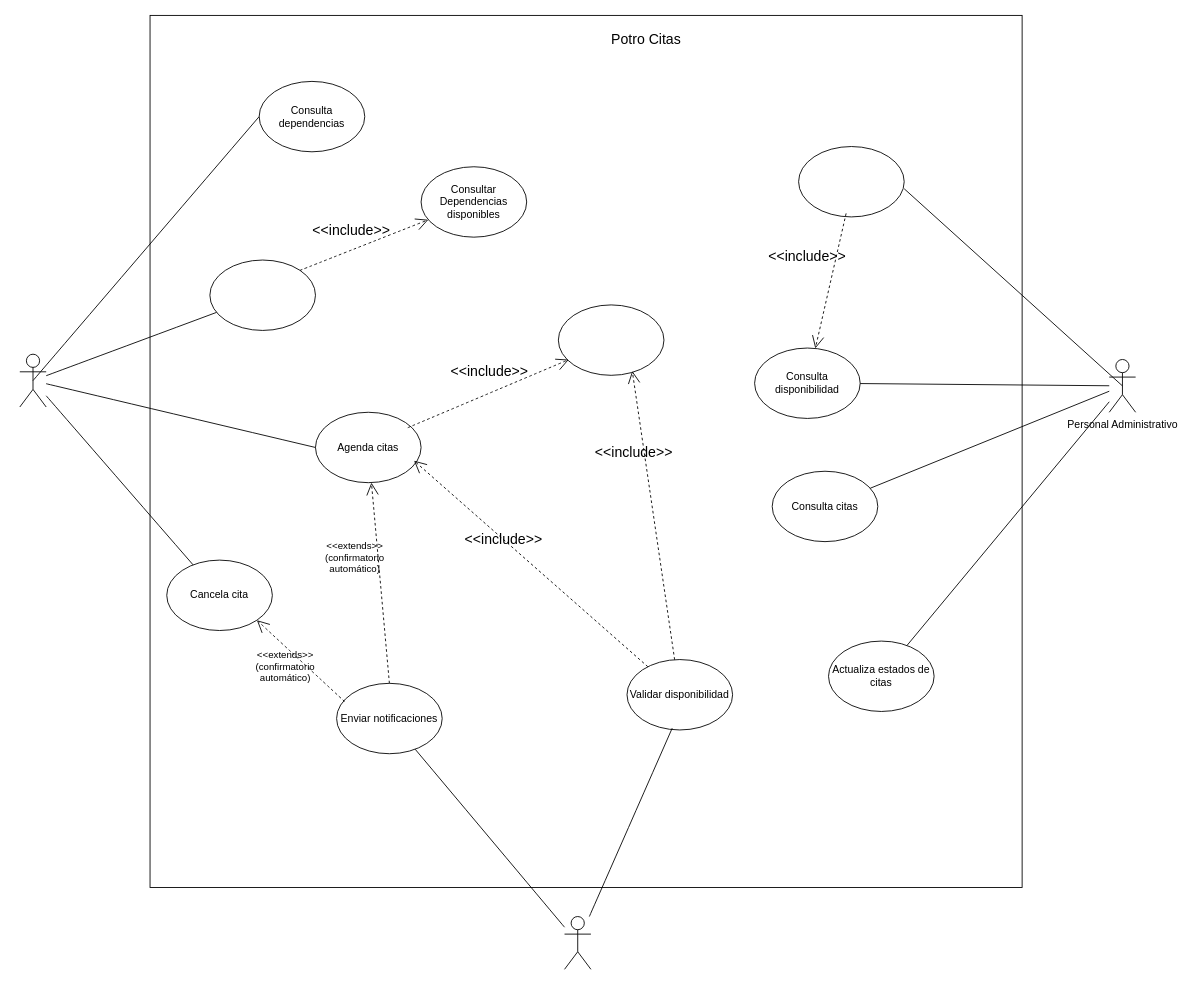
The diagram is 1192 pixels wide and 1003 high, and some of its shapes have lost their labels. Each missing label, with the centre of its shape:
"Consulta horarios" goes at pixel 262 294.
"Consultar horarios disponibles" goes at pixel 610 339.
"Gestiona horarios" goes at pixel 851 181.
"Sistema" goes at pixel 577 942.
"Usuario" goes at pixel 32 380.
